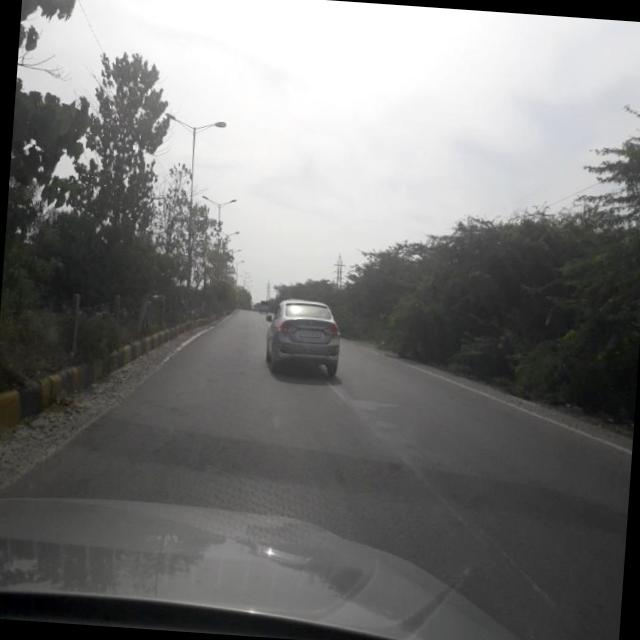pothole: (390, 464, 584, 624)
